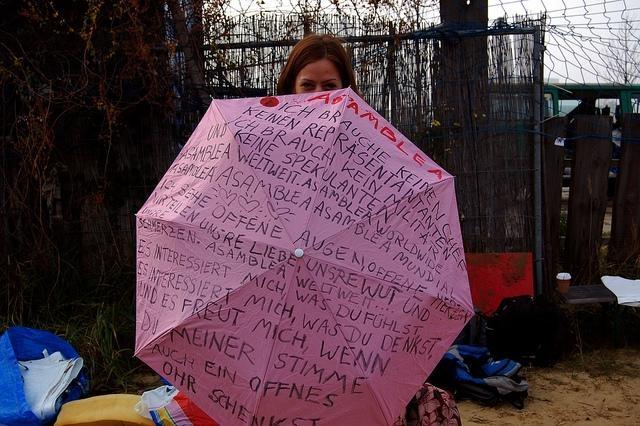bus: (542, 82, 640, 159)
